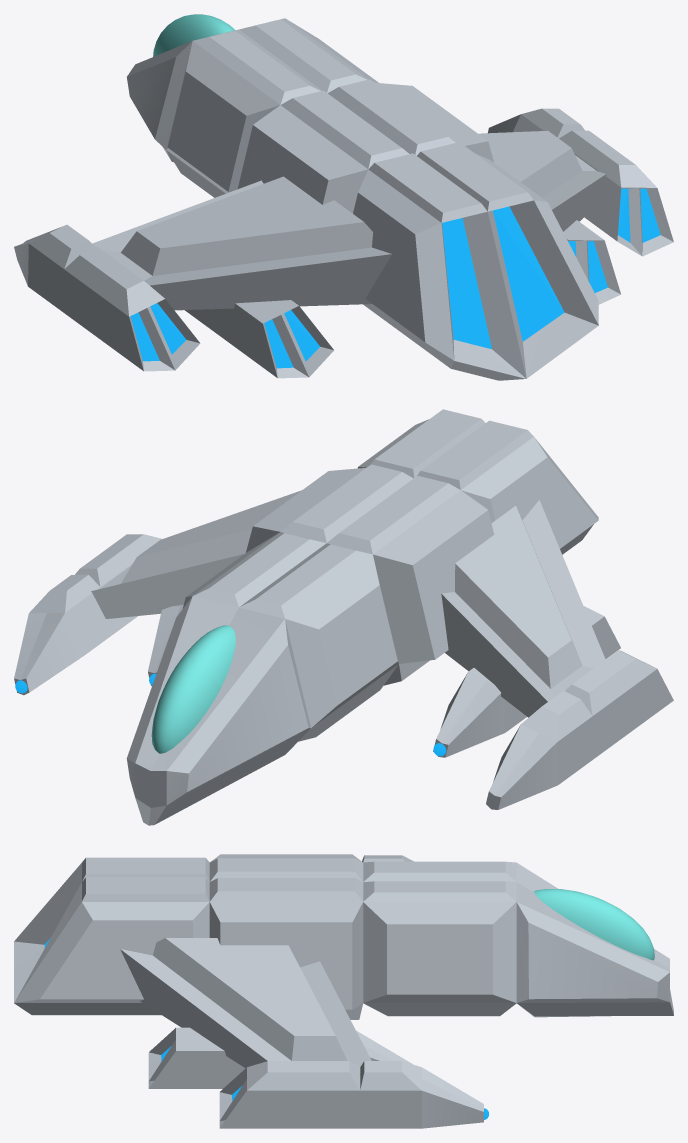
The model's file is spaceship-grey.glb.
The picture shows the model from 3 angles, top to bottom: view 1: azimuth 30°, elevation 25°; view 2: azimuth 150°, elevation 25°; view 3: azimuth 270°, elevation 25°; orthographic projection. The views are drawn at different scales.
Parts seen in each view (by area): view 1: spaceship; view 2: spaceship; view 3: spaceship.
Part boxes in pixels (box(x1,y1,x2,y2)): spaceship: box(14, 14, 673, 380); spaceship: box(14, 409, 673, 825); spaceship: box(14, 854, 673, 1128).
Size of the model in its own units: 10.75 by 3.26 by 13.28.
